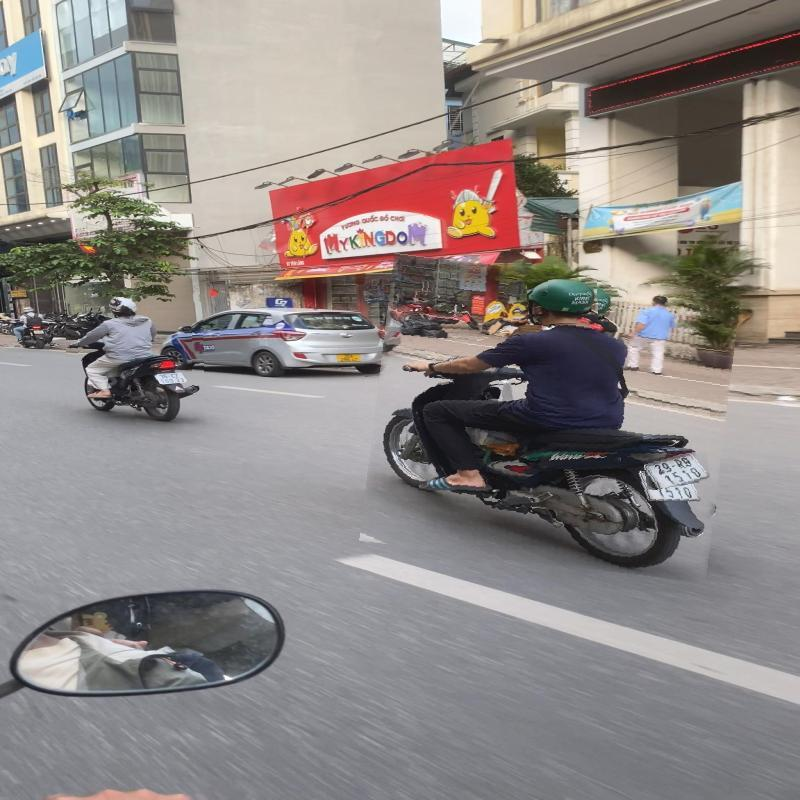helmet: (528, 278, 598, 324), (109, 297, 138, 312)
licenseplate: (644, 453, 710, 488), (154, 372, 188, 384)
motorcyclist: (367, 263, 732, 573), (66, 294, 204, 424)
